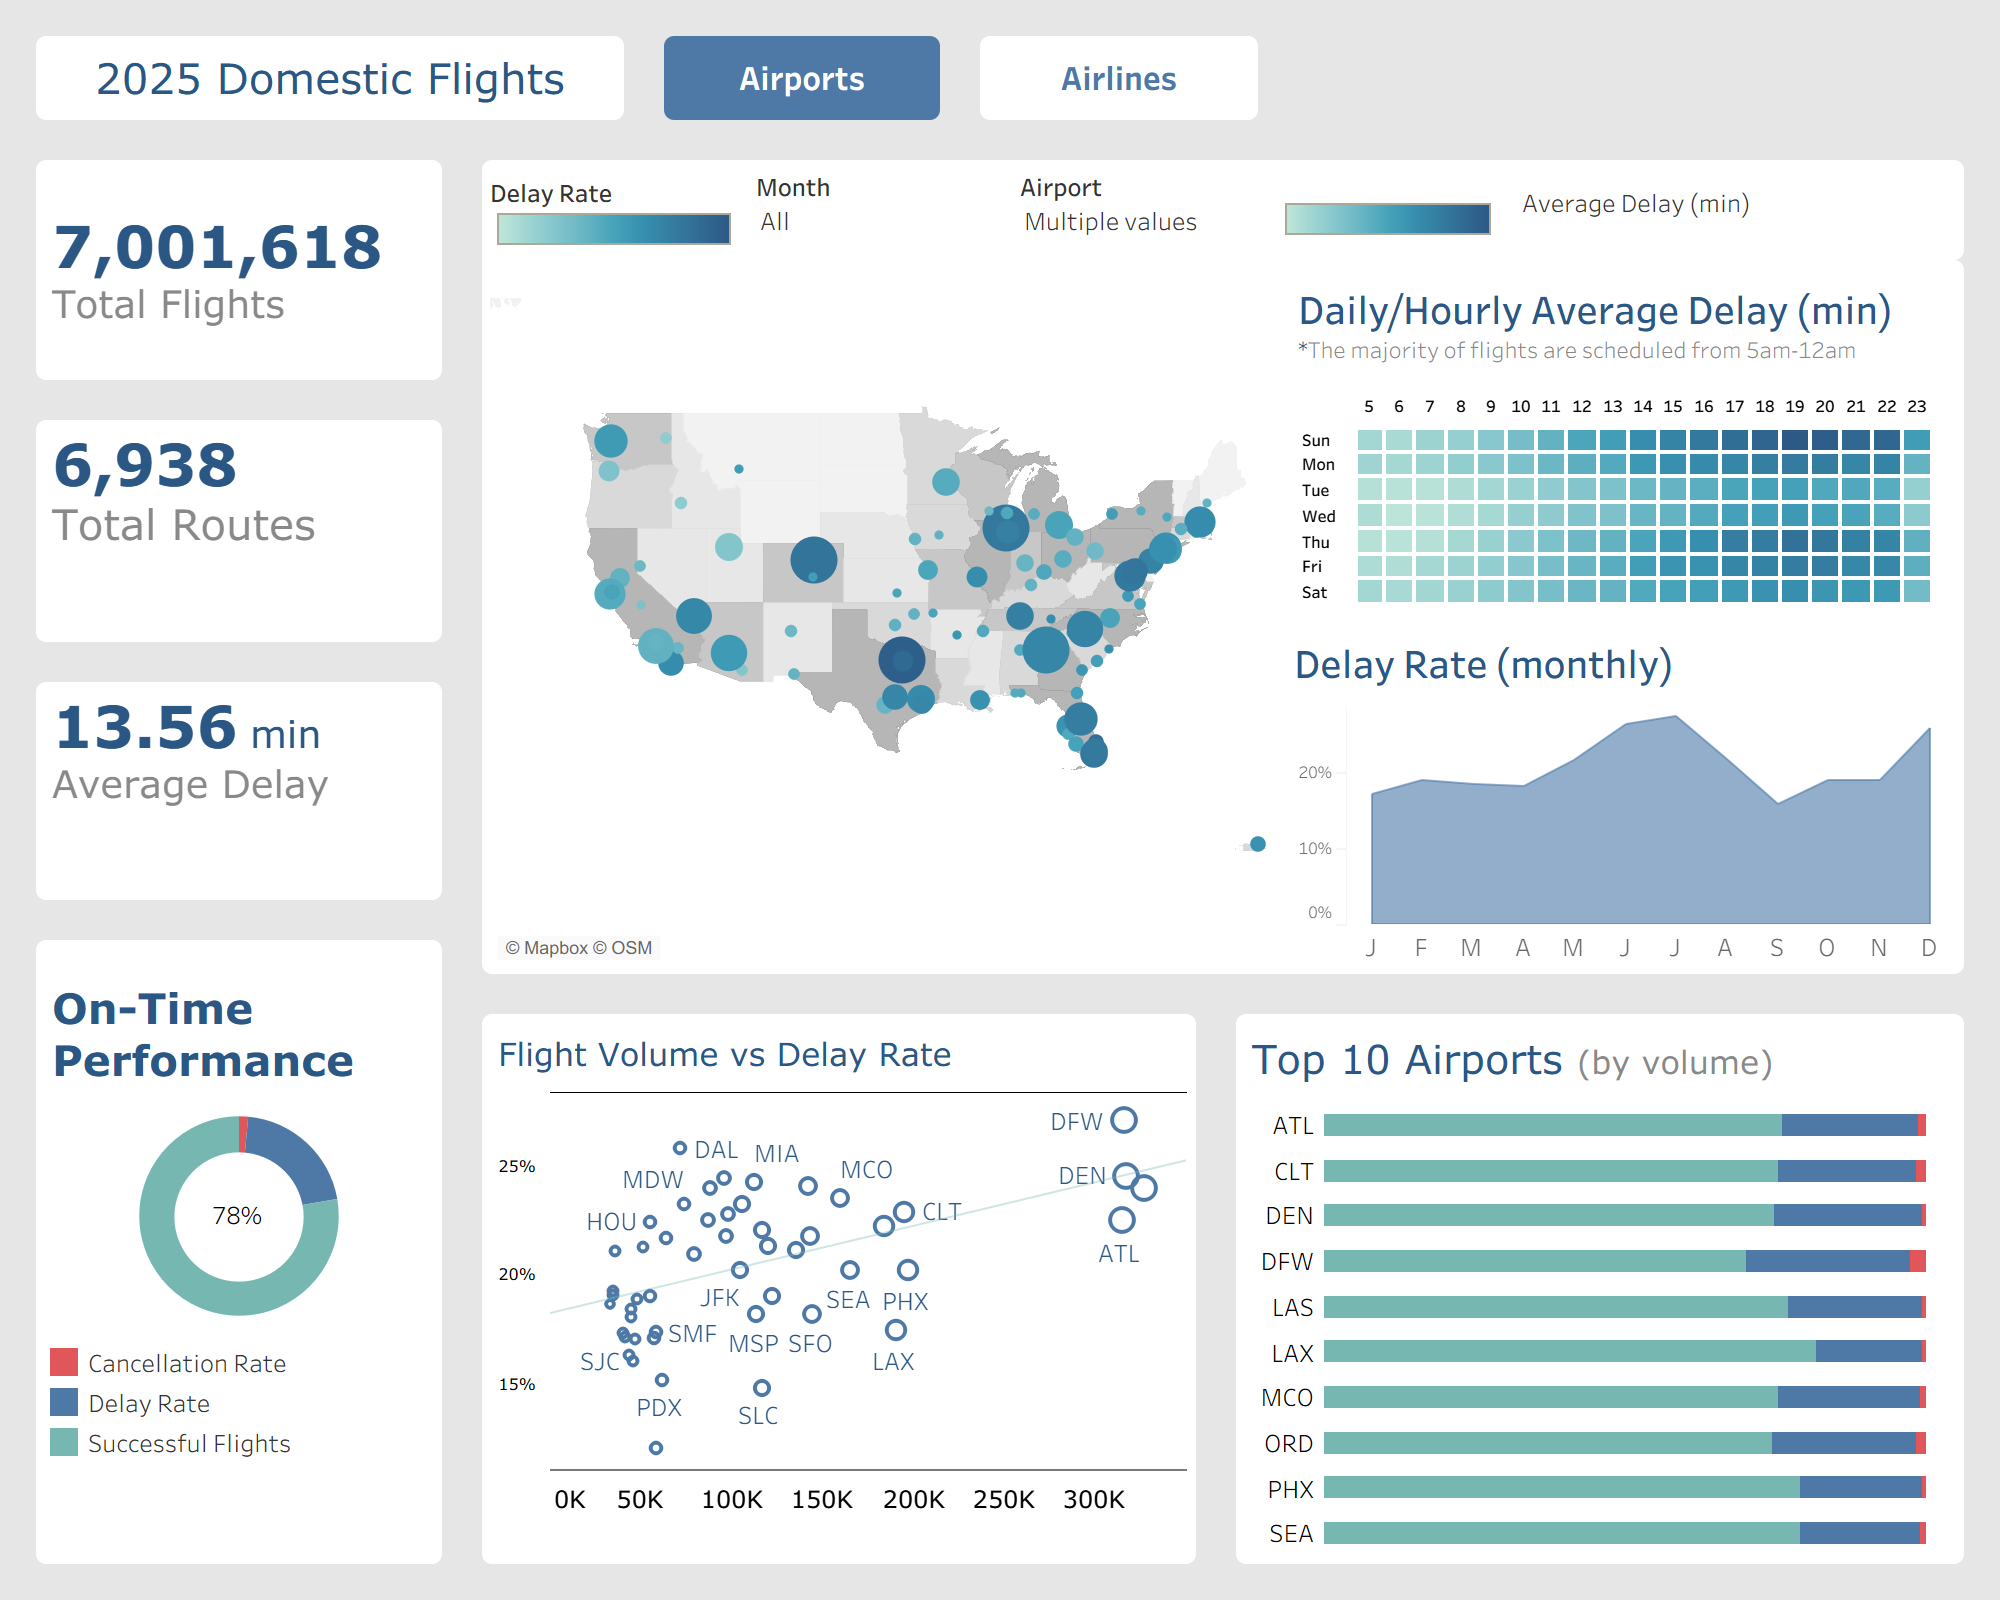

This screenshot's page, from the dashboard's own definition file:
{"tool":"tableau","page":{"name":"Airports","canvas":[1000,800],"ordinal":1},"visuals":[{"type":"text","box":[18,12,606,66]},{"type":"dashboard-object","box":[624,12,164,66]},{"type":"dashboard-object","box":[788,12,164,66]},{"type":"worksheet","title":"Delay/Cancellation Rate","mark":"Pie","cols":["Calculation_1562139845533713","Calculation_1562139845541907"],"box":[500,92,166,149]},{"type":"worksheet","title":"Airport Total Routes","mark":"Automatic","box":[666,92,316,75]},{"type":"worksheet","title":"Airport name","mark":"Automatic","box":[24,98,131,137]},{"type":"worksheet","title":"Total Flights KPI","mark":"Automatic","box":[167,98,160,68]},{"type":"worksheet","title":"Average Delay KPI","mark":"Automatic","box":[339,98,155,69]},{"type":"worksheet","title":"Flight Volume by Month","mark":"Area","rows":["Calculation_1562139826475012","Calculation_1562139826475012"],"cols":["fl_date"],"box":[167,166,160,69]},{"type":"worksheet","title":"Average Delay by Month","mark":"Area","rows":["Calculation_1562139826774021","Calculation_1562139826774021"],"cols":["fl_date"],"box":[339,167,155,68]},{"type":"worksheet","title":"Airport Top Routes","mark":"Automatic","cols":["Calculation_1108324908216320"],"box":[666,167,316,74]},{"type":"legend","title":"Map","param":"[federated.1rw0wj514wbz2k1dyeug803rc4i3].[usr:Calculation_1562139826774021:qk]","box":[19,262,305,48]},{"type":"filter","title":"Map","param":"[federated.1rw0wj514wbz2k1dyeug803rc4i3].[mn:fl_date:ok]","box":[324,262,168,48]},{"type":"text","box":[513,266,330,40]},{"type":"parameter","param":"[Parameters].[Parameter 1]","box":[843,266,134,40]},{"type":"worksheet","title":"Total Flights by Weekday & Hour","mark":"Automatic","rows":["fl_date"],"cols":["scheduled_dep_hour"],"box":[508,306,474,194]},{"type":"worksheet","title":"Map","mark":"Circle","rows":["latitude"],"cols":["longitude"],"box":[19,310,473,290]},{"type":"worksheet","title":"Delays by Reason","mark":"Area","cols":["fl_date"],"box":[508,500,474,152]},{"type":"worksheet","title":"Top 15 Airports by Volume","mark":"Bar","cols":["origin_airport"],"box":[19,600,473,181]},{"type":"worksheet","title":"Top States","mark":"Automatic","cols":["state_abbreviation"],"box":[522,666,446,102]}]}

Visuals, with their boxes in screenshot pixels (x1, y1, x2, y2), scaled from the page's 1000x800 canvas onto the 2000x1600 screenshot:
text: x1=36 y1=24 x2=1248 y2=156
dashboard-object: x1=1248 y1=24 x2=1576 y2=156
dashboard-object: x1=1576 y1=24 x2=1904 y2=156
"Delay/Cancellation Rate" worksheet (Pie marks): x1=1000 y1=184 x2=1332 y2=482
"Airport Total Routes" worksheet: x1=1332 y1=184 x2=1964 y2=334
"Airport name" worksheet: x1=48 y1=196 x2=310 y2=470
"Total Flights KPI" worksheet: x1=334 y1=196 x2=654 y2=332
"Average Delay KPI" worksheet: x1=678 y1=196 x2=988 y2=334
"Flight Volume by Month" worksheet (Area marks): x1=334 y1=332 x2=654 y2=470
"Average Delay by Month" worksheet (Area marks): x1=678 y1=334 x2=988 y2=470
"Airport Top Routes" worksheet: x1=1332 y1=334 x2=1964 y2=482
"Map" legend: x1=38 y1=524 x2=648 y2=620
"Map" filter: x1=648 y1=524 x2=984 y2=620
text: x1=1026 y1=532 x2=1686 y2=612
parameter: x1=1686 y1=532 x2=1954 y2=612
"Total Flights by Weekday & Hour" worksheet: x1=1016 y1=612 x2=1964 y2=1000
"Map" worksheet (Circle marks): x1=38 y1=620 x2=984 y2=1200
"Delays by Reason" worksheet (Area marks): x1=1016 y1=1000 x2=1964 y2=1304
"Top 15 Airports by Volume" worksheet (Bar marks): x1=38 y1=1200 x2=984 y2=1562
"Top States" worksheet: x1=1044 y1=1332 x2=1936 y2=1536
